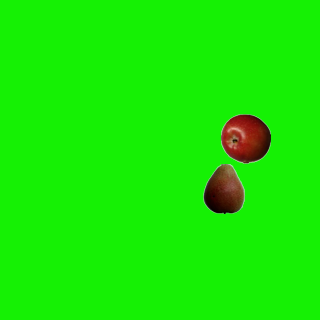Apple Braeburn: (220, 113, 270, 163)
Pear Forelle: (198, 163, 248, 213)
